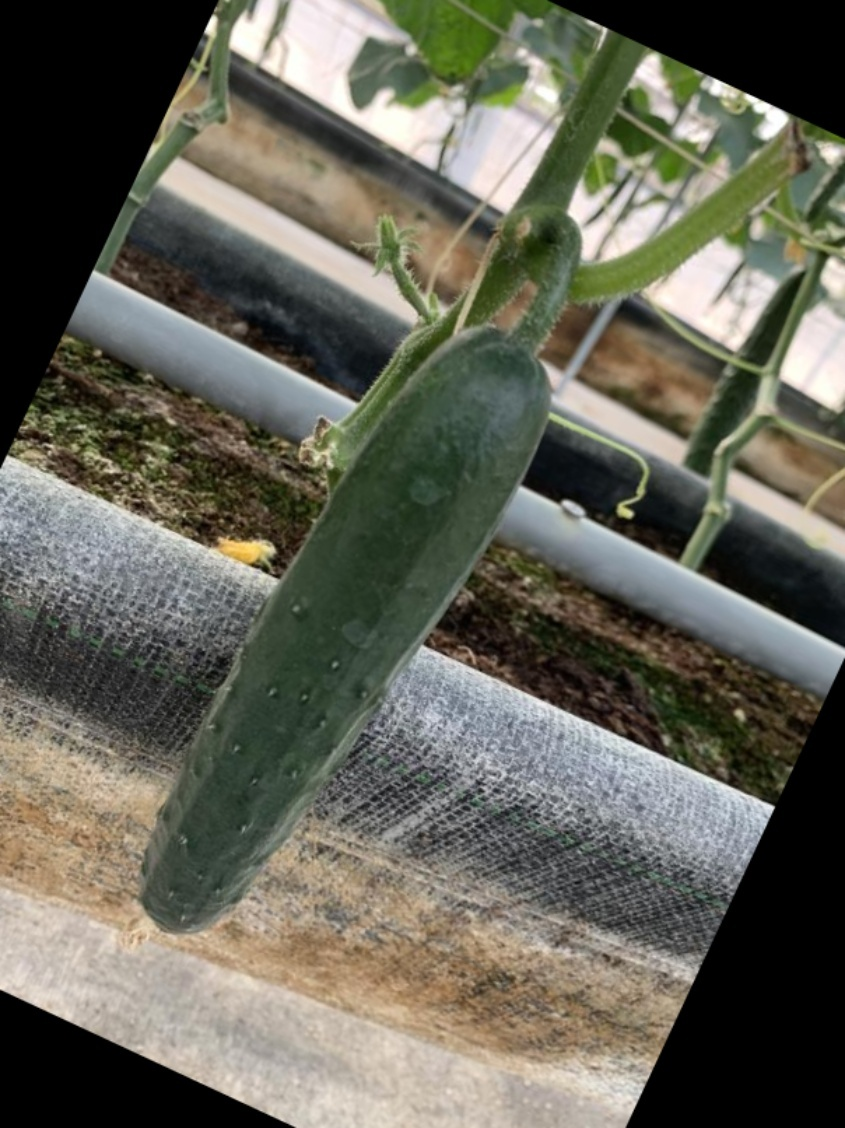mature: (132, 312, 564, 945)
